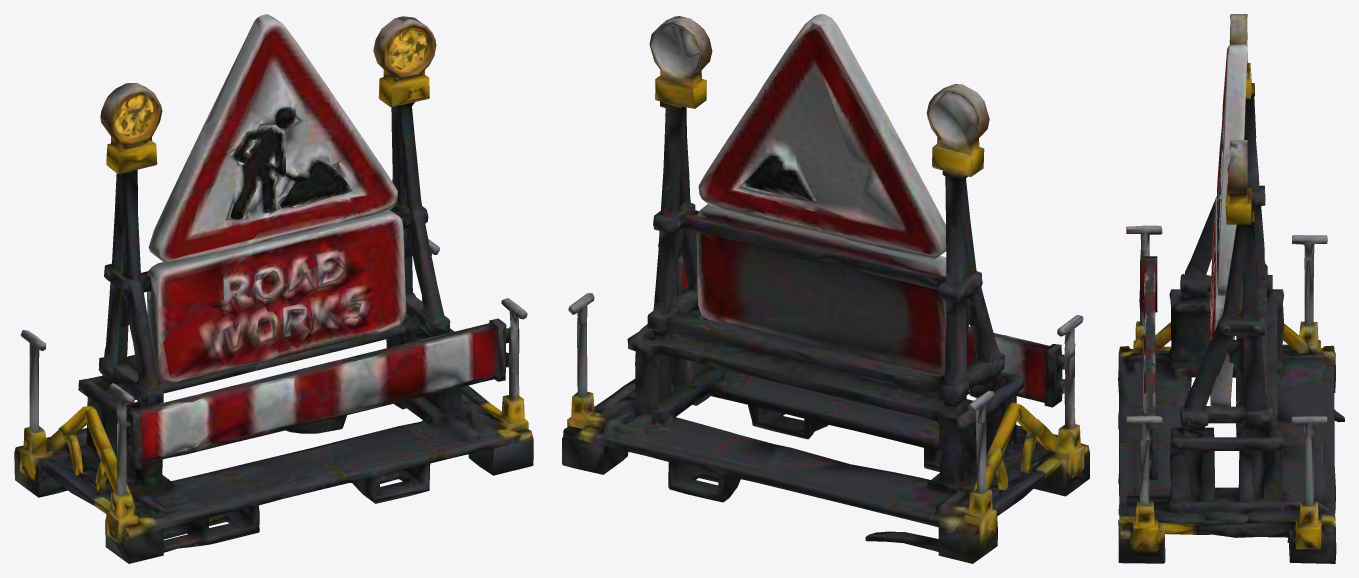
Rendered from veh-signworks.glb.
3 views of the same model, side by side, from view 1: azimuth 30°, elevation 25°; view 2: azimuth 150°, elevation 25°; view 3: azimuth 270°, elevation 25° (orthographic). The views are drawn at different scales.
Visible parts, largest first — view 1: tripo_node_ebe49091-7856-4b25-be7f-c59fdc81877a; view 2: tripo_node_ebe49091-7856-4b25-be7f-c59fdc81877a; view 3: tripo_node_ebe49091-7856-4b25-be7f-c59fdc81877a.
Part boxes in pixels (x1,y1,x2,y2): tripo_node_ebe49091-7856-4b25-be7f-c59fdc81877a: [14, 14, 533, 563]; tripo_node_ebe49091-7856-4b25-be7f-c59fdc81877a: [562, 14, 1089, 563]; tripo_node_ebe49091-7856-4b25-be7f-c59fdc81877a: [1118, 14, 1344, 563].
Size of the model in its own units: 0.9386 by 0.9781 by 0.4727.
1 material, 1 textured.
